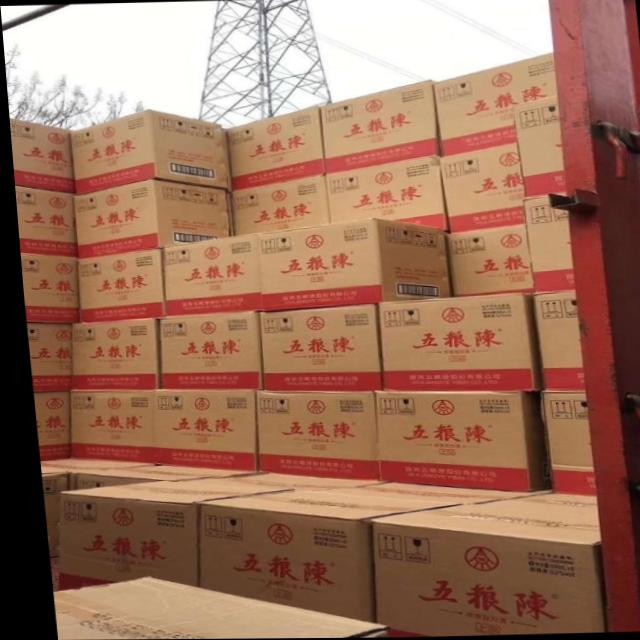box: (188, 481, 521, 623), (49, 471, 372, 588), (361, 493, 595, 637), (42, 576, 377, 640), (254, 218, 449, 311), (369, 390, 541, 492), (372, 292, 533, 392), (67, 110, 226, 194), (430, 53, 555, 154), (68, 179, 228, 256), (319, 81, 439, 175), (32, 456, 142, 556), (247, 391, 369, 481), (255, 302, 376, 391), (321, 155, 442, 232), (218, 105, 322, 190), (141, 391, 249, 471), (152, 310, 255, 390), (158, 235, 257, 316), (432, 142, 519, 232), (69, 248, 159, 321), (63, 318, 153, 391), (224, 174, 325, 237), (442, 225, 530, 297), (505, 94, 565, 199), (62, 391, 145, 463), (532, 393, 587, 498), (527, 289, 576, 393), (518, 193, 567, 290), (67, 463, 247, 489), (8, 117, 70, 192), (12, 185, 72, 256), (16, 251, 74, 322), (21, 321, 65, 393), (26, 391, 62, 460)
